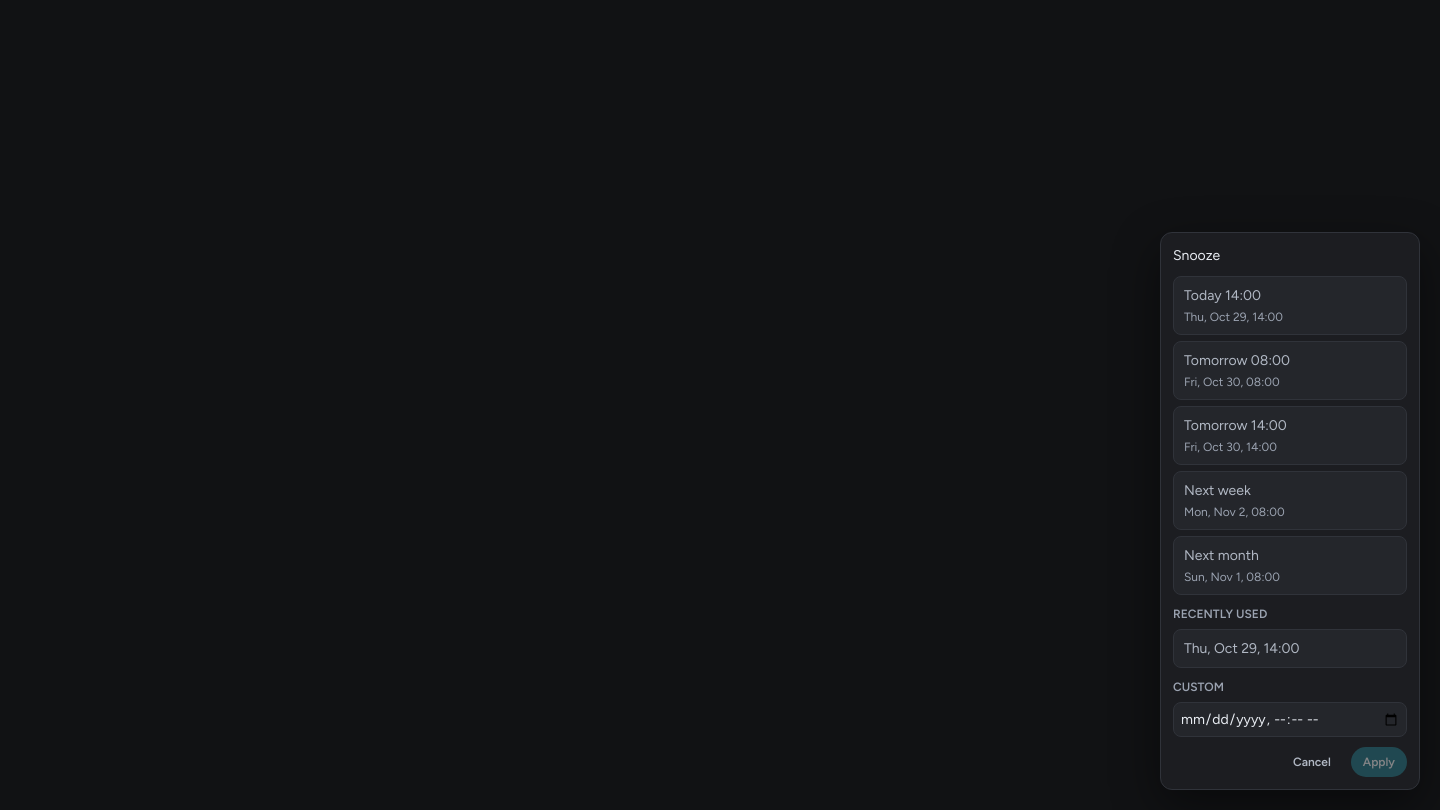
Test: explains a recent choice that expires between the last clock update and activation
The image size is (1440, 810).
Step 1. Click the button with class "recent-item" → (1290, 648), box [1173, 629, 1407, 668]
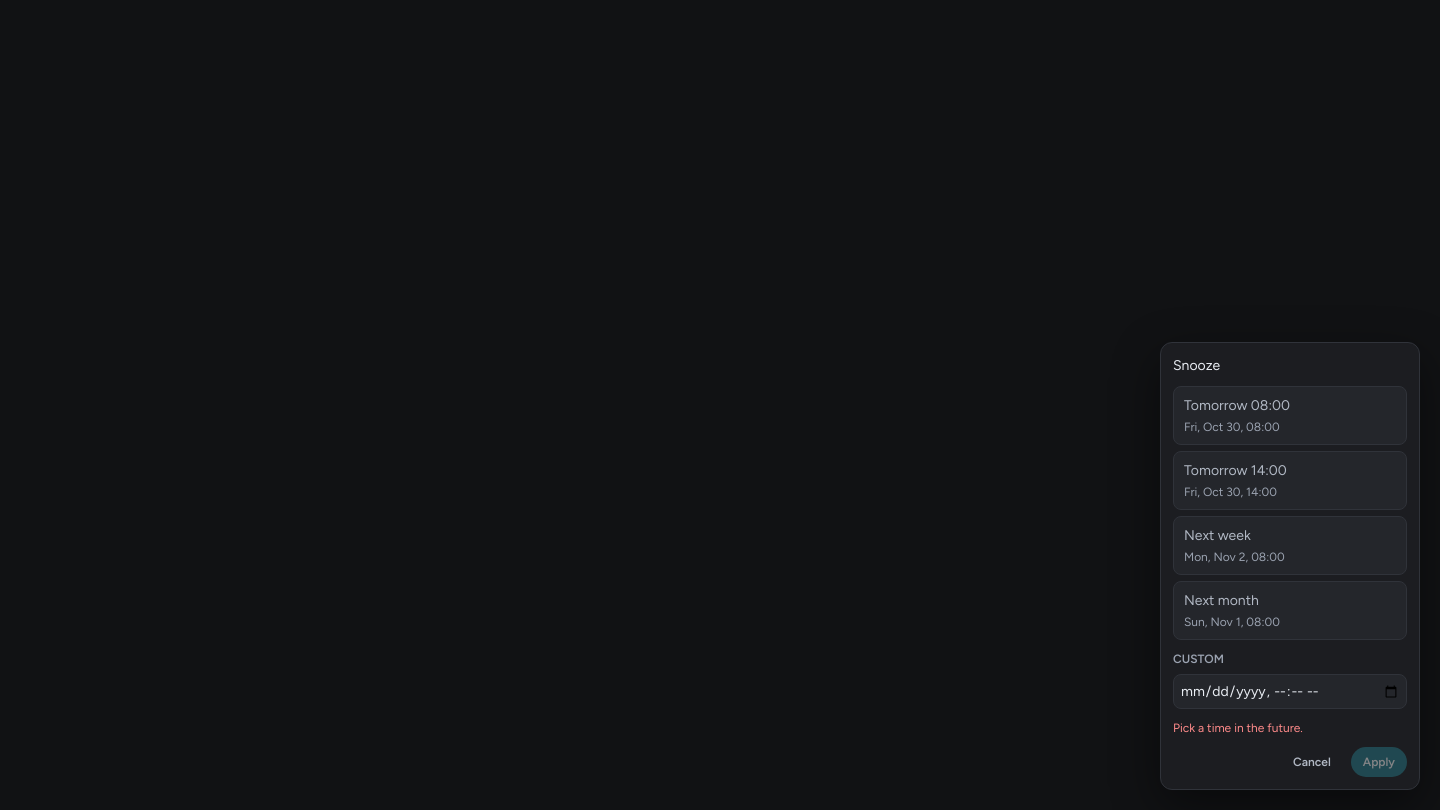
Check: the message "Pick a time in the future." is shown, box [1173, 721, 1303, 735]
